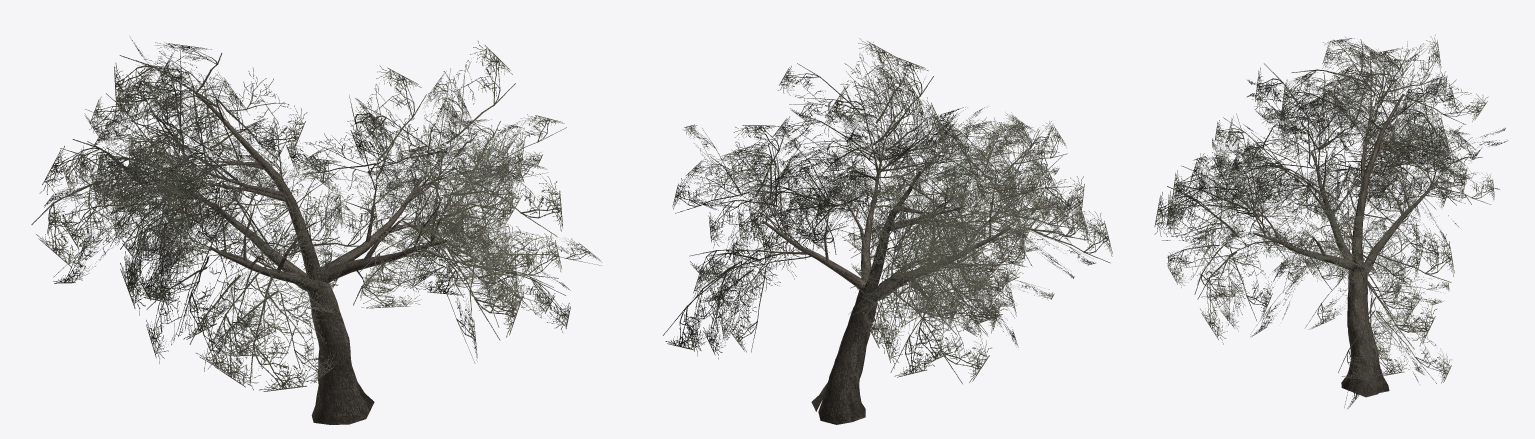
File: tree_v6_oak_healthy_winter.glb
3 renders of one model, left to right at view 1: azimuth 30°, elevation 25°; view 2: azimuth 150°, elevation 25°; view 3: azimuth 270°, elevation 25°, orthographic. The views are drawn at different scales.
Visible parts, largest first — view 1: tree_v6_oak_healthy_winter_LOD0; view 2: tree_v6_oak_healthy_winter_LOD0; view 3: tree_v6_oak_healthy_winter_LOD0.
Boxes of the visible parts, bbox=[...] form: tree_v6_oak_healthy_winter_LOD0: bbox=[31, 37, 601, 424]; tree_v6_oak_healthy_winter_LOD0: bbox=[663, 38, 1112, 424]; tree_v6_oak_healthy_winter_LOD0: bbox=[1154, 34, 1508, 408].
Size of what is drawn, in the model's own units: 12.38 by 9.65 by 10.53.
1 material, 1 textured.
